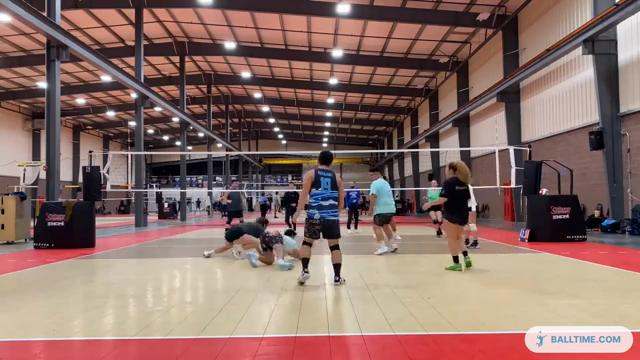Dig: (248, 227, 302, 271)
Player: (294, 150, 344, 284), (425, 161, 471, 270), (203, 218, 268, 257), (370, 168, 397, 254), (222, 180, 244, 230), (465, 185, 479, 248), (282, 182, 298, 230), (345, 182, 360, 233), (426, 180, 439, 201)
